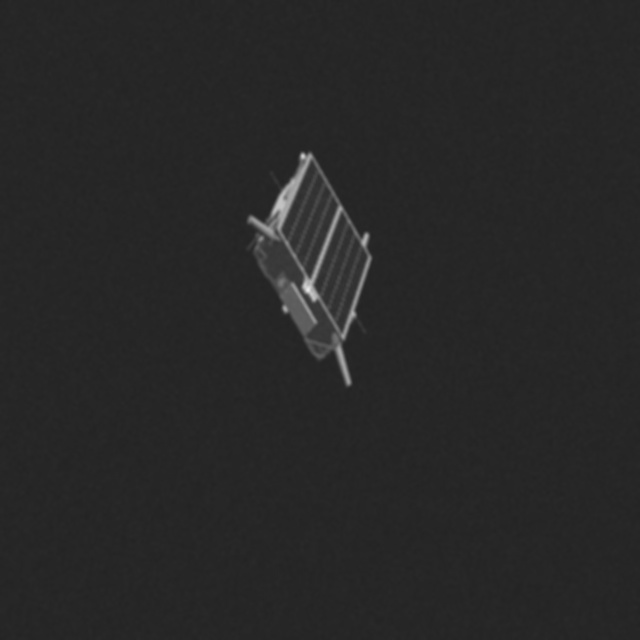satellite: (234, 150, 372, 398)
